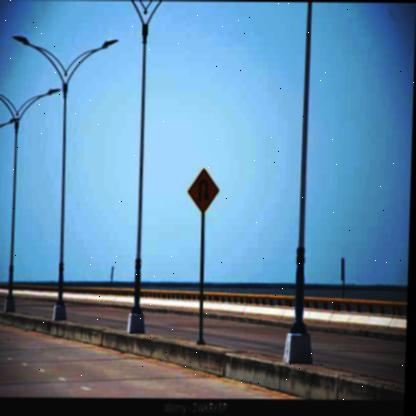U-turn: (190, 160, 221, 219)
